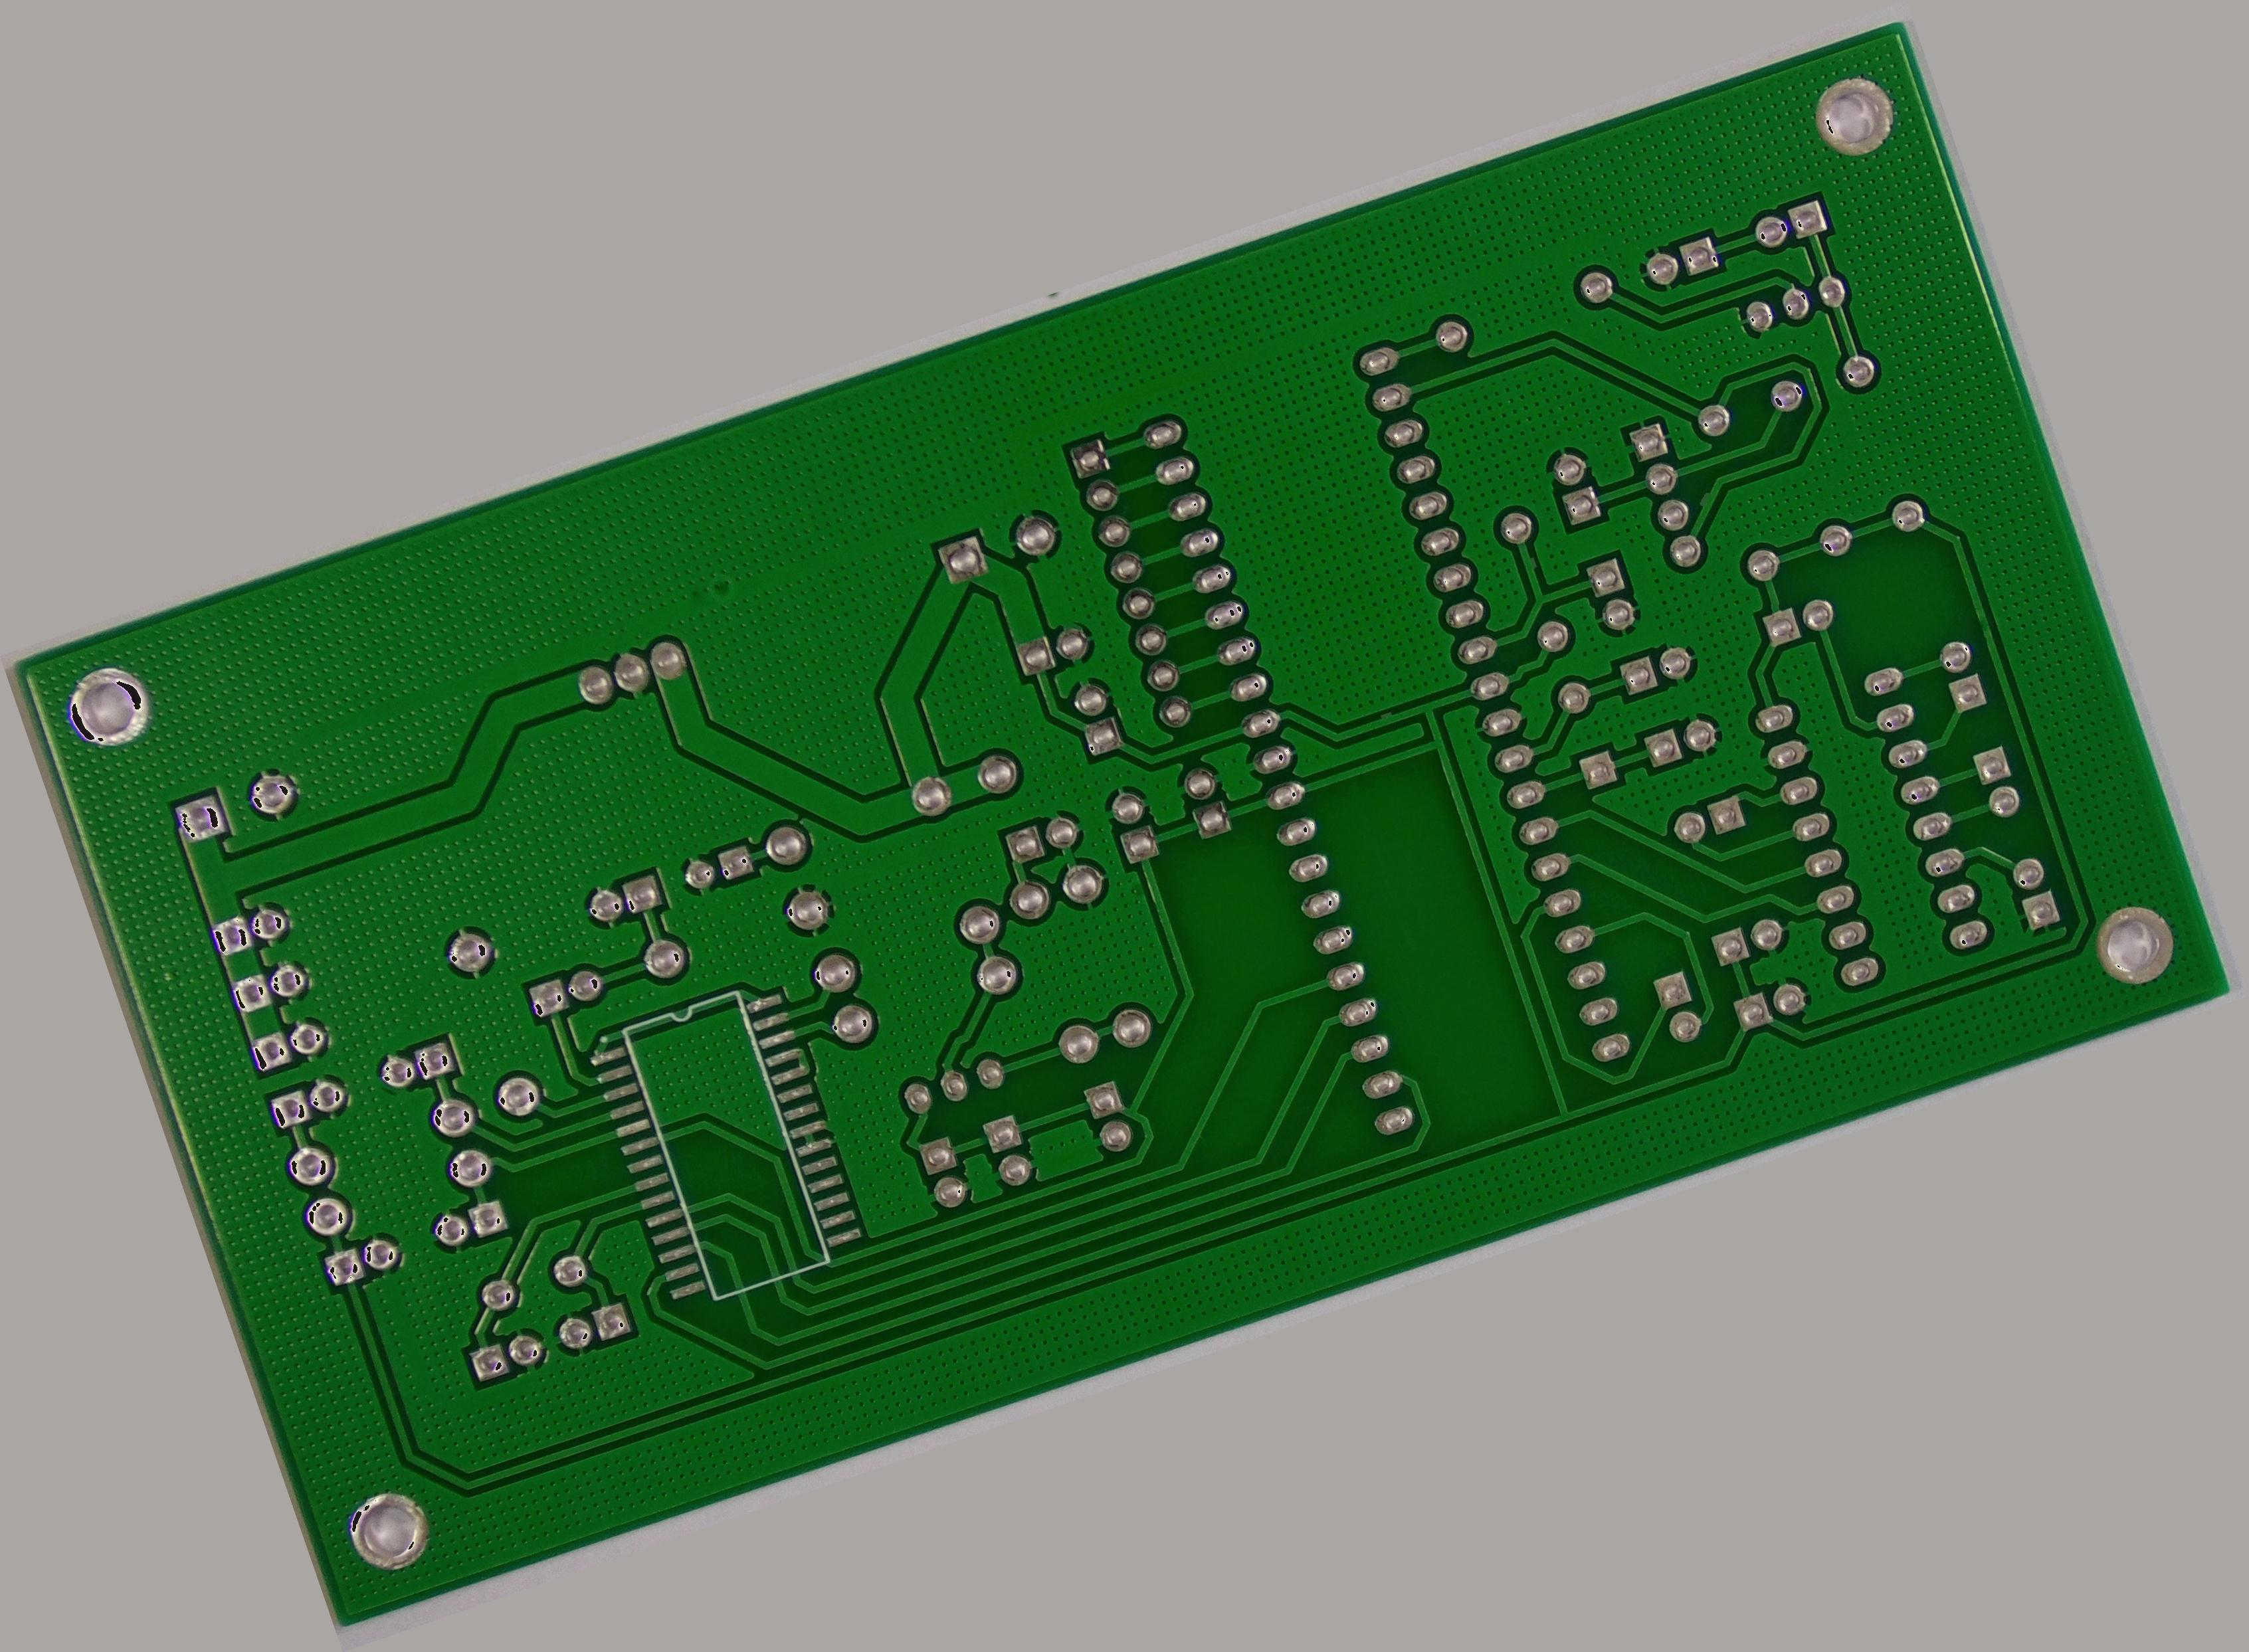spur: (1514, 545, 1544, 580), (1687, 484, 1722, 513), (1369, 702, 1402, 730)
